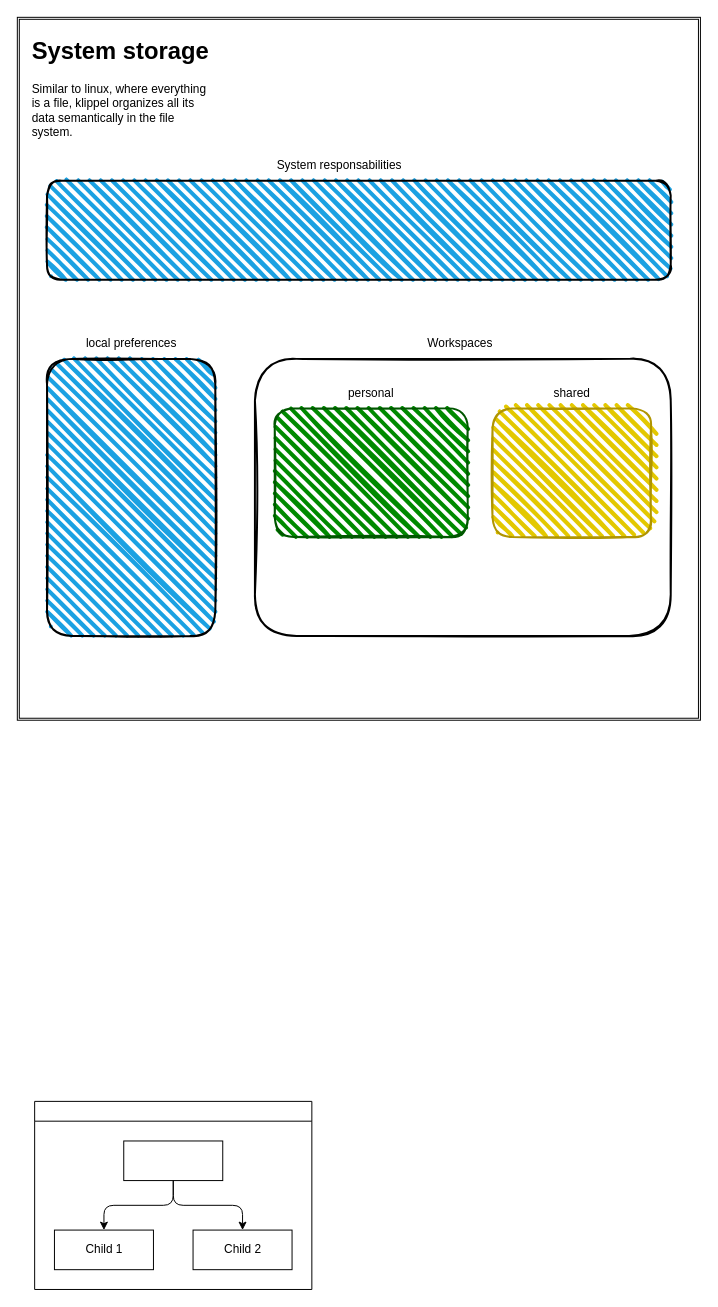
This 718x1307 diagram has some shape labels left out. The box of each missing label's shape, as (x1, y1, x2, y2) in pixels:
Root: (123, 1140, 223, 1181)
Vertical Tree Layout: (34, 1100, 312, 1289)
